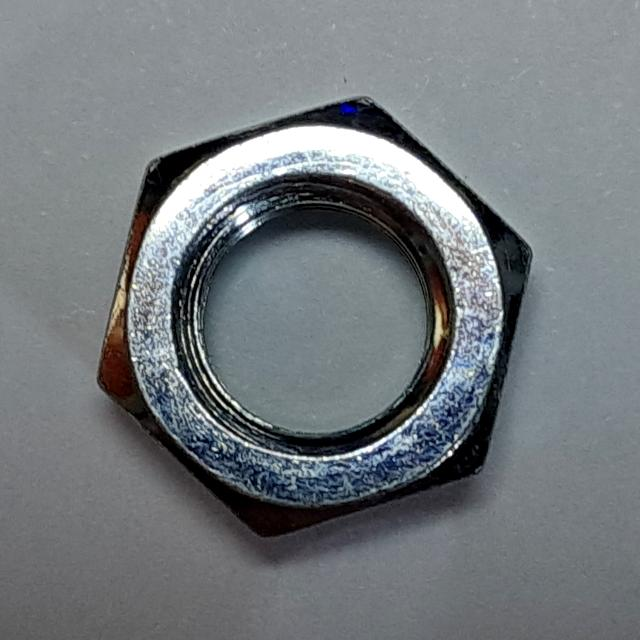Excellent: (87, 85, 553, 554)
